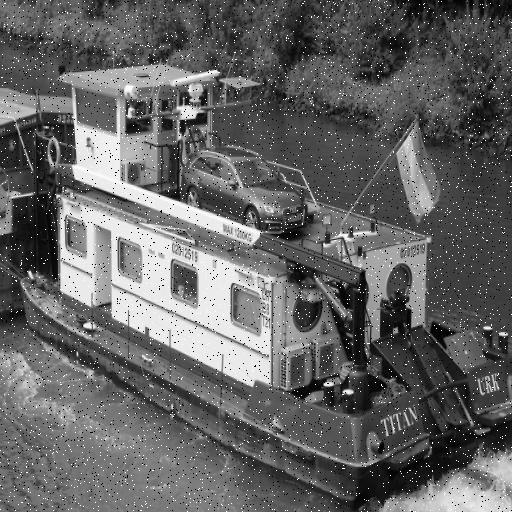tugboat: (15, 55, 512, 512)
